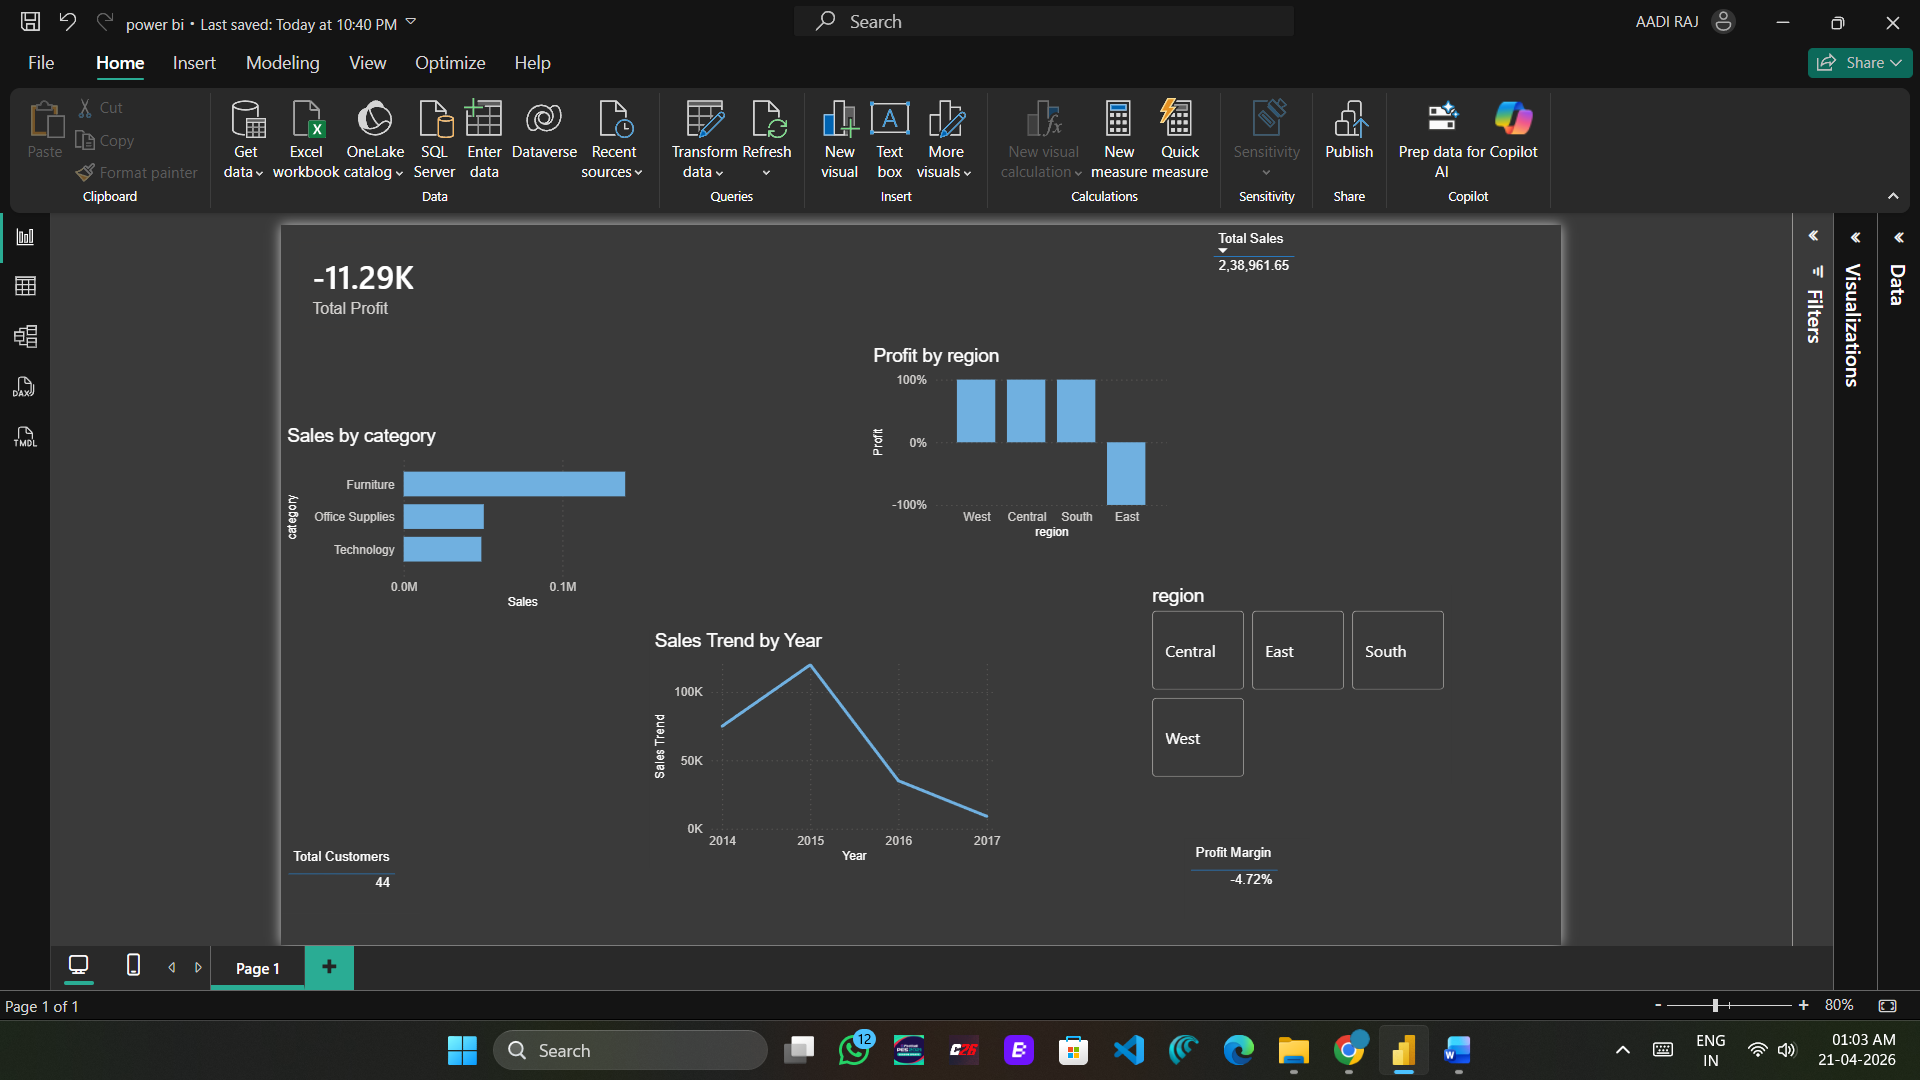

The page's visual inventory and layout, read from the dashboard file:
{"tool":"powerbi","page":{"name":"Page 1","canvas":[1280,720],"ordinal":0},"visuals":[{"type":"tableEx","fields":{"Values":["Sum(task_2.sales)"]},"box":[926.2,0,102.5,68.8],"z":0},{"type":"cardVisual","fields":{"Data":["Sum(task_2.profit)"]},"box":[1.2,0,178.8,120],"z":1000},{"type":"tableEx","fields":{"Values":["task_2.Total Customers"]},"box":[1.2,617.5,138.8,71.2],"z":2000},{"type":"tableEx","fields":{"Values":["task_2.Profit Margin","select"]},"box":[903.8,613.8,125,80],"z":3000},{"type":"barChart","fields":{"Category":["task_2.category"],"Y":["Sum(task_2.Total Sales)"]},"box":[1.2,200,378.8,188.8],"z":4000},{"type":"hundredPercentStackedColumnChart","fields":{"Category":["task_2.region"],"Y":["Sum(task_2.profit)"]},"box":[587.5,120,303.8,198.8],"z":5000},{"type":"lineChart","fields":{"Category":["task_2.order_date.Variation.Date Hierarchy.Year","task_2.order_date.Variation.Date Hierarchy.Quarter","task_2.order_date.Variation.Date Hierarchy.Month","task_2.order_date.Variation.Date Hierarchy.Day"],"Y":["Sum(task_2.Total Sales)"]},"box":[368.8,405,356.2,237.5],"z":6000},{"type":"advancedSlicerVisual","fields":{"Values":["task_2.region"]},"box":[866.2,360,303.8,198.8],"z":7000}]}

Visuals, with their boxes on the page's 1280x720 design canvas (x1, y1, x2, y2). These are canvas units, not pixel positions in the 1920x1080 screenshot, which may show the page scaled, cropped or inside an application window:
tableEx - Sum(task_2.sales): <bbox>926, 0, 1029, 69</bbox>
cardVisual - Sum(task_2.profit): <bbox>1, 0, 180, 120</bbox>
tableEx - task_2.Total Customers: <bbox>1, 618, 140, 689</bbox>
tableEx - task_2.Profit Margin x select: <bbox>904, 614, 1029, 694</bbox>
barChart - task_2.category x Sum(task_2.Total Sales): <bbox>1, 200, 380, 389</bbox>
hundredPercentStackedColumnChart - task_2.region x Sum(task_2.profit): <bbox>588, 120, 891, 319</bbox>
lineChart - task_2.order_date.Variation.Date Hierarchy.Year x task_2.order_date.Variation.Date Hierarchy.Quarter: <bbox>369, 405, 725, 642</bbox>
advancedSlicerVisual - task_2.region: <bbox>866, 360, 1170, 559</bbox>
